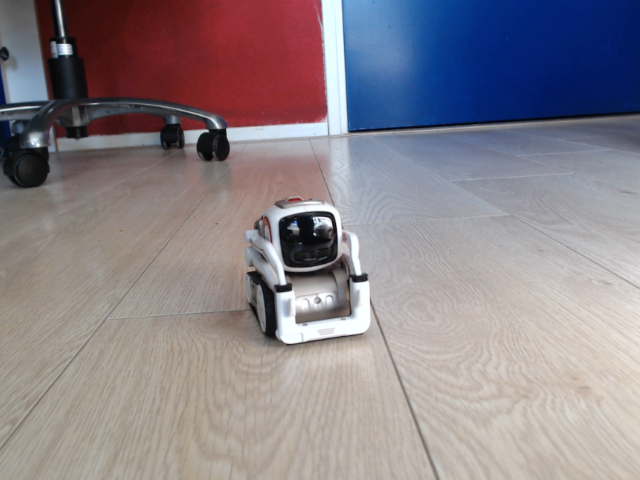cozmo: (241, 188, 375, 356)
